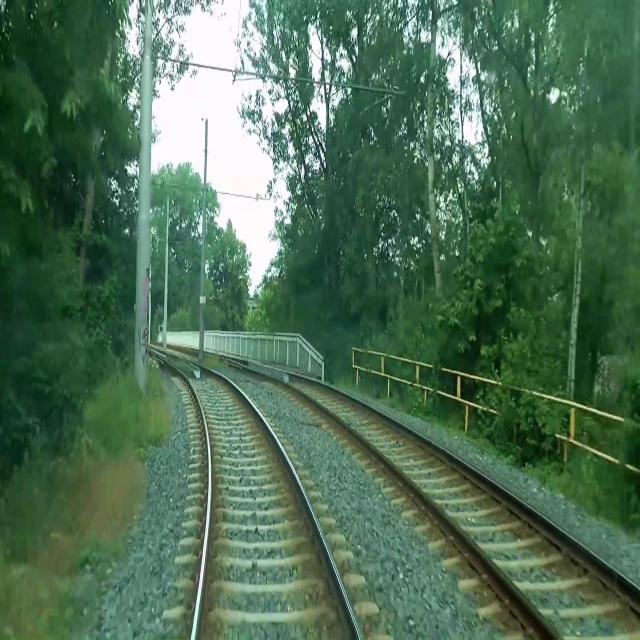rail-track: (253, 365, 640, 639), (158, 351, 357, 639)
